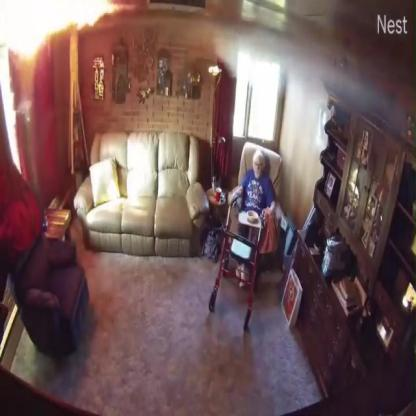Fire: (1, 0, 116, 62)
